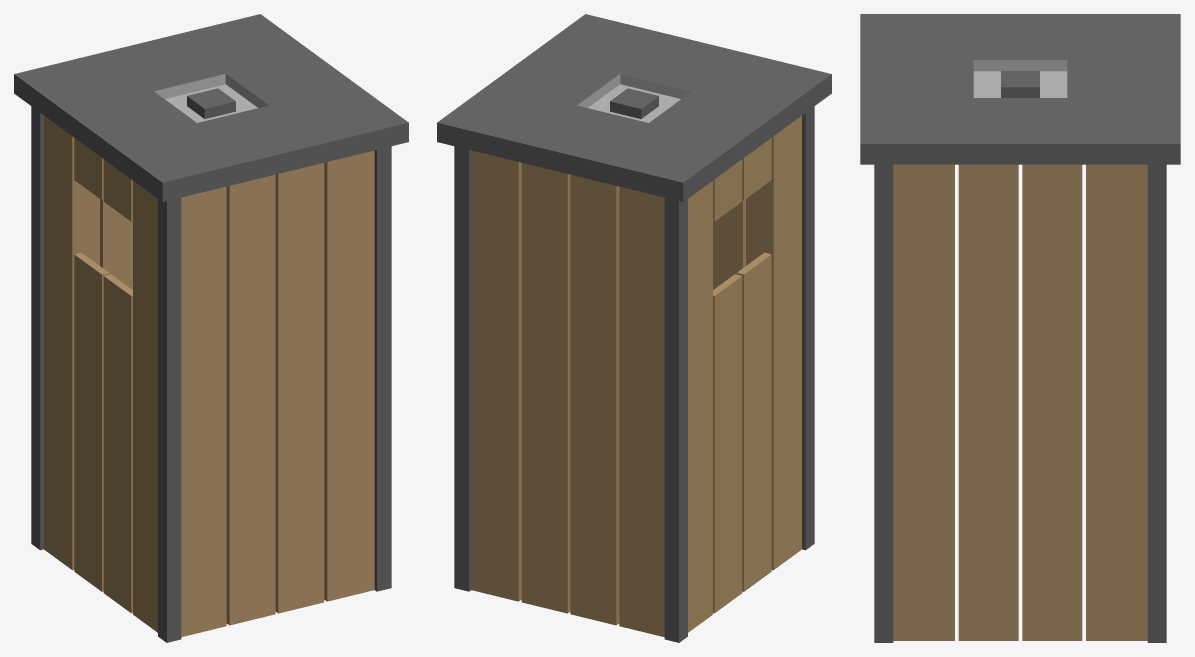
Rendered from Wooden_Bin.fbx.
The picture shows the model from 3 angles, left to right: view 1: azimuth 30°, elevation 25°; view 2: azimuth 150°, elevation 25°; view 3: azimuth 270°, elevation 25°; orthographic projection. The views are drawn at different scales.
Visible parts, largest first — view 1: Wooden_Bin1; view 2: Wooden_Bin1; view 3: Wooden_Bin1.
Part boxes in pixels (x1,y1,x2,y2): Wooden_Bin1: [14, 14, 408, 642]; Wooden_Bin1: [437, 14, 831, 642]; Wooden_Bin1: [860, 14, 1180, 642].
Bounding box in the file's own units: 0.3087 × 0.5597 × 0.3221.
